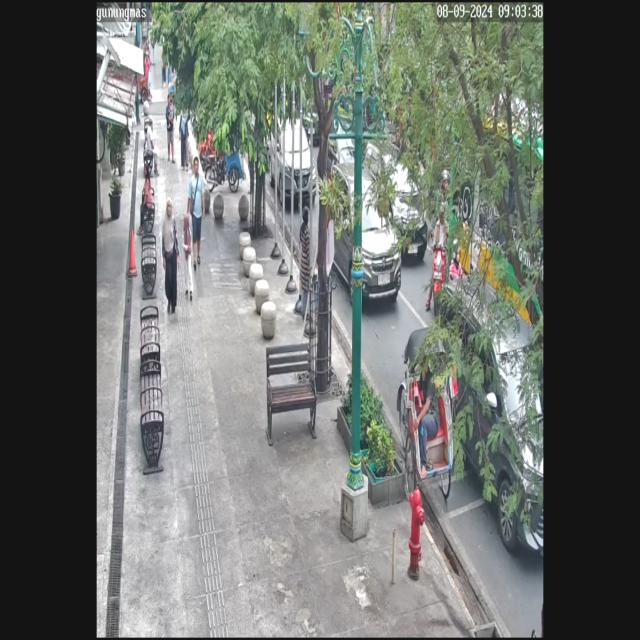Bus: (448, 94, 544, 337)
Car: (431, 267, 544, 573), (318, 157, 405, 319), (368, 122, 431, 268), (261, 108, 314, 208)
Motorcycle: (425, 192, 452, 309)
